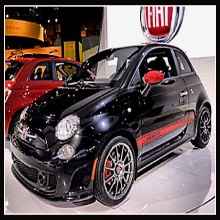no damage: (10, 46, 211, 205), (1, 53, 79, 117)
